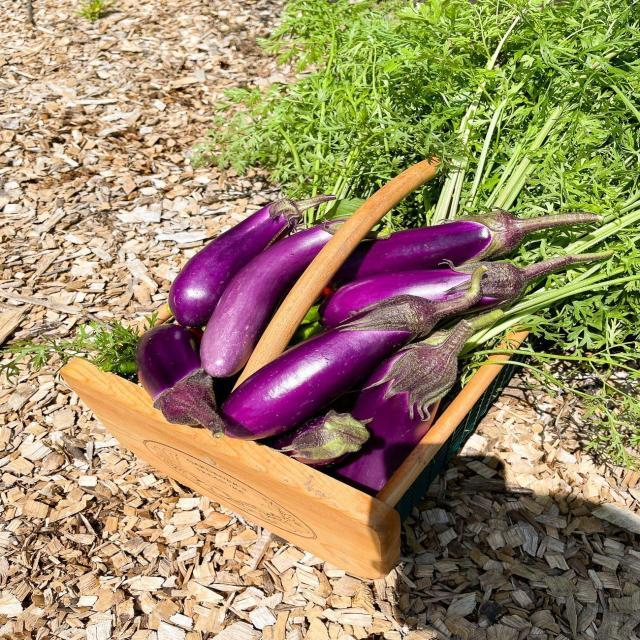Eggplant: (214, 326, 419, 445), (171, 209, 310, 375), (320, 221, 492, 332)
